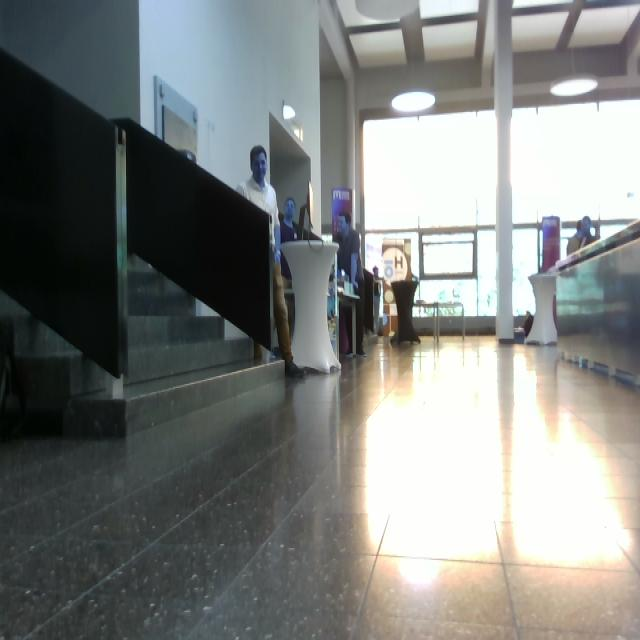door: (114, 117, 257, 386)
light bulb: (355, 1, 420, 24), (391, 90, 436, 113), (550, 76, 599, 97), (283, 104, 296, 120), (385, 290, 394, 304)
person: (236, 145, 306, 378), (334, 211, 368, 359)
pillar: (494, 1, 516, 342)
table: (279, 237, 345, 378)
tiled floor: (1, 329, 640, 638)
window: (361, 96, 639, 326)
